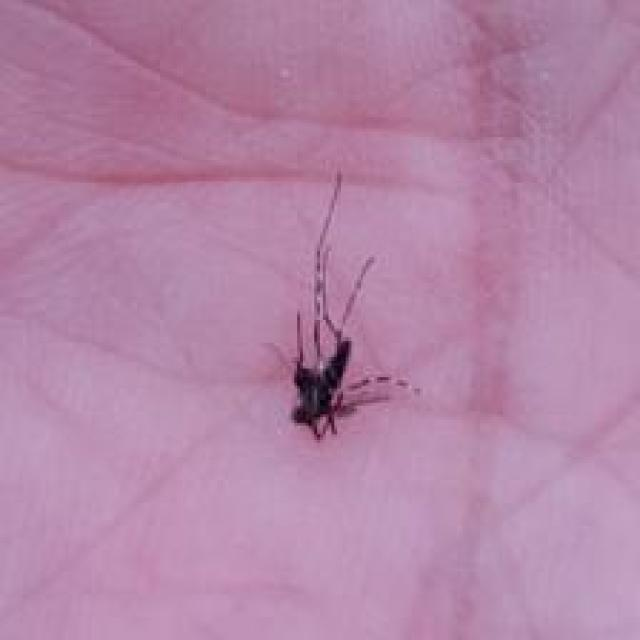Aedes albopictus: (274, 170, 420, 441)
